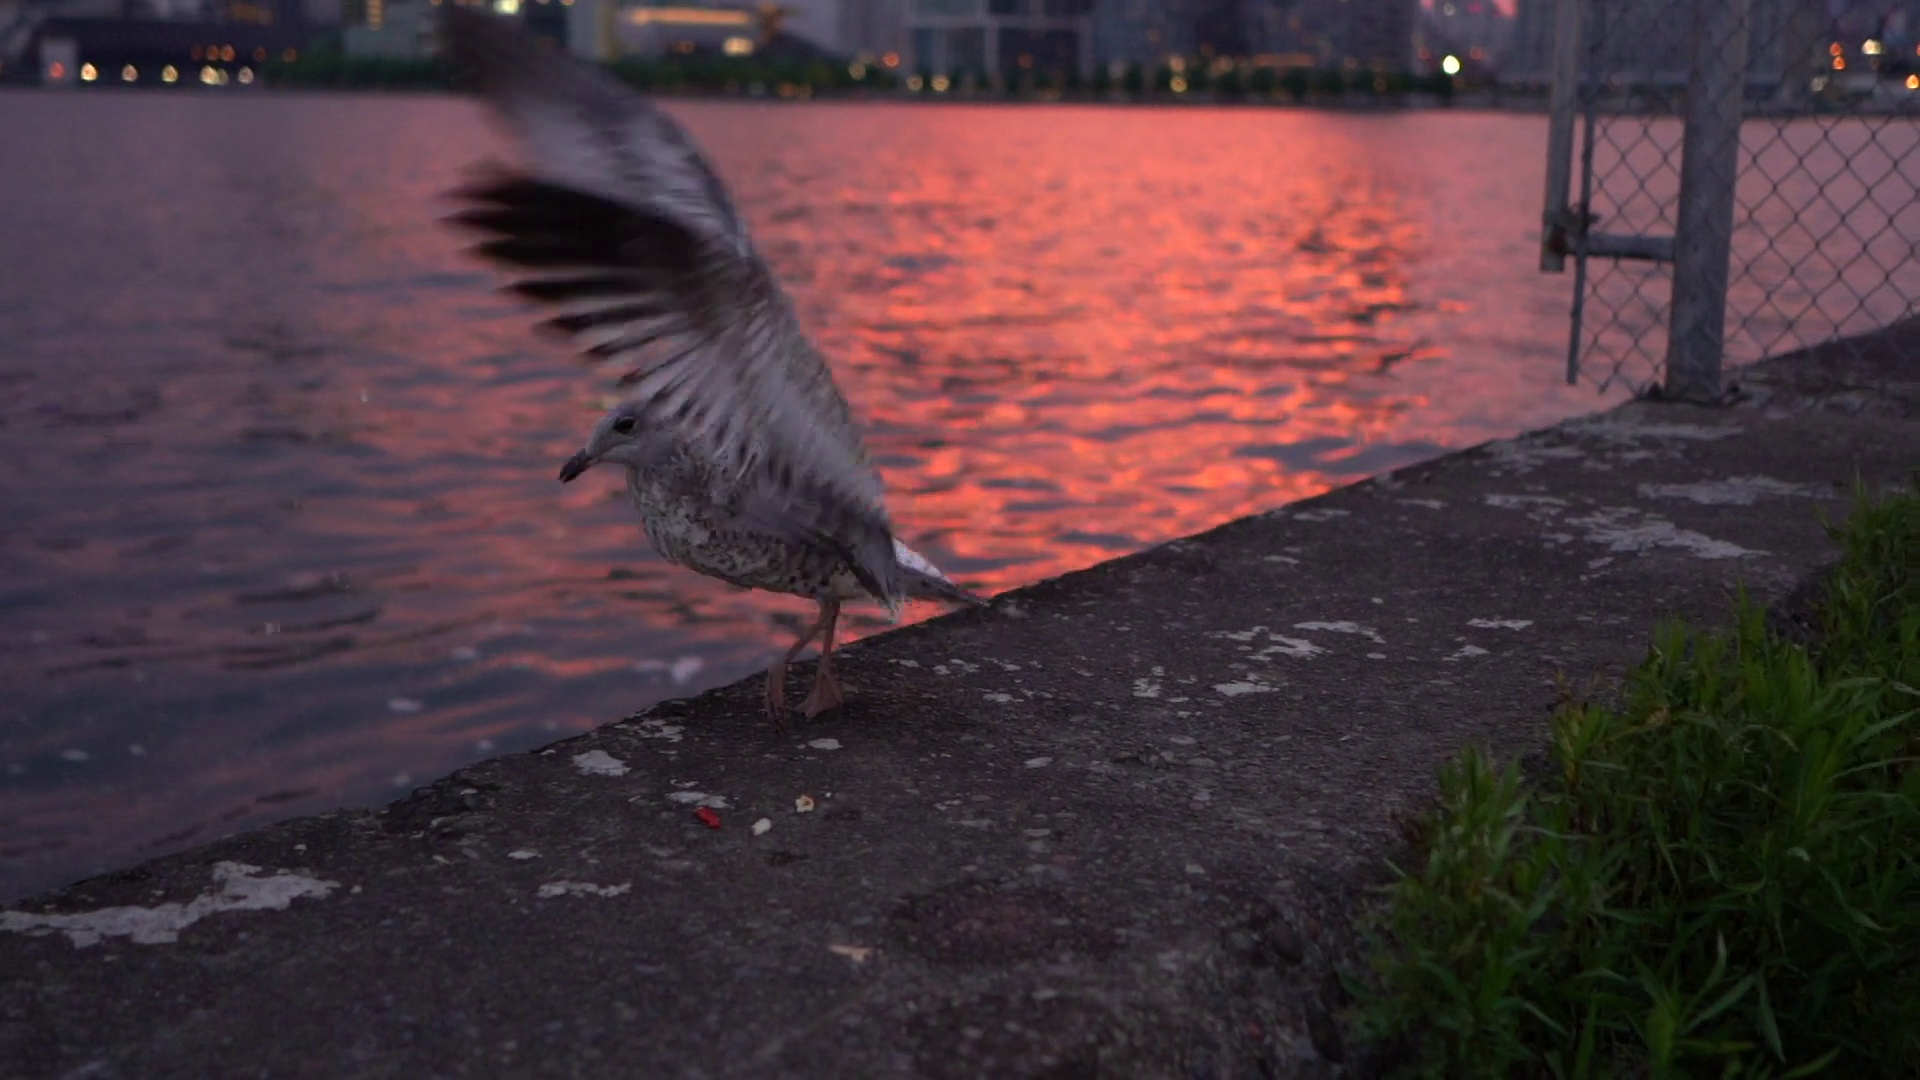bird: (448, 1, 1011, 727)
